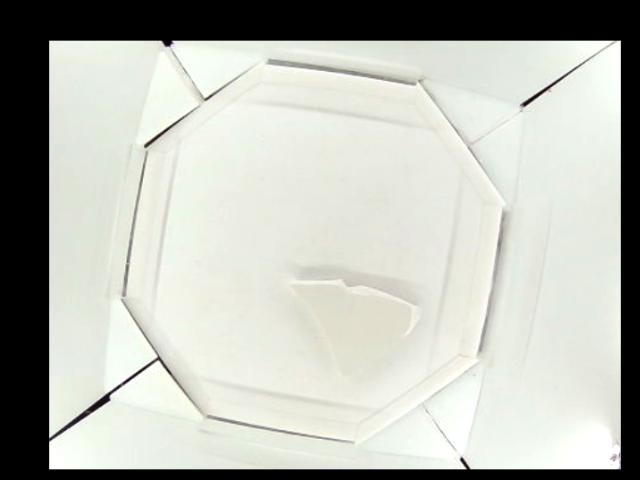China: (286, 277, 421, 383)
